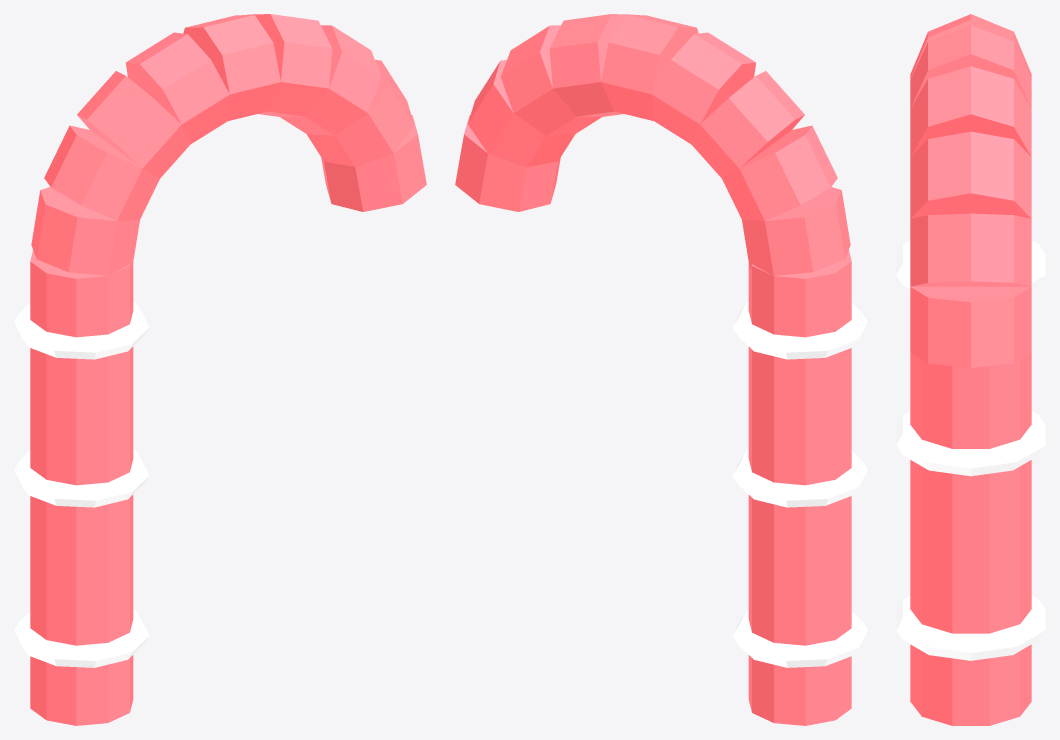
The model's file is xmas_candy_cane.glb.
3 views of the same model, side by side, from view 1: azimuth 30°, elevation 25°; view 2: azimuth 150°, elevation 25°; view 3: azimuth 270°, elevation 25° (orthographic). The views are drawn at different scales.
Parts seen in each view (by area): view 1: CandyCane; view 2: CandyCane; view 3: CandyCane.
Part boxes in pixels (x1,y1,x2,y2): CandyCane: (14, 14, 426, 725); CandyCane: (455, 14, 867, 725); CandyCane: (896, 14, 1045, 725).
Size of the model in its own units: 1.35 by 2.1 by 0.3804.
